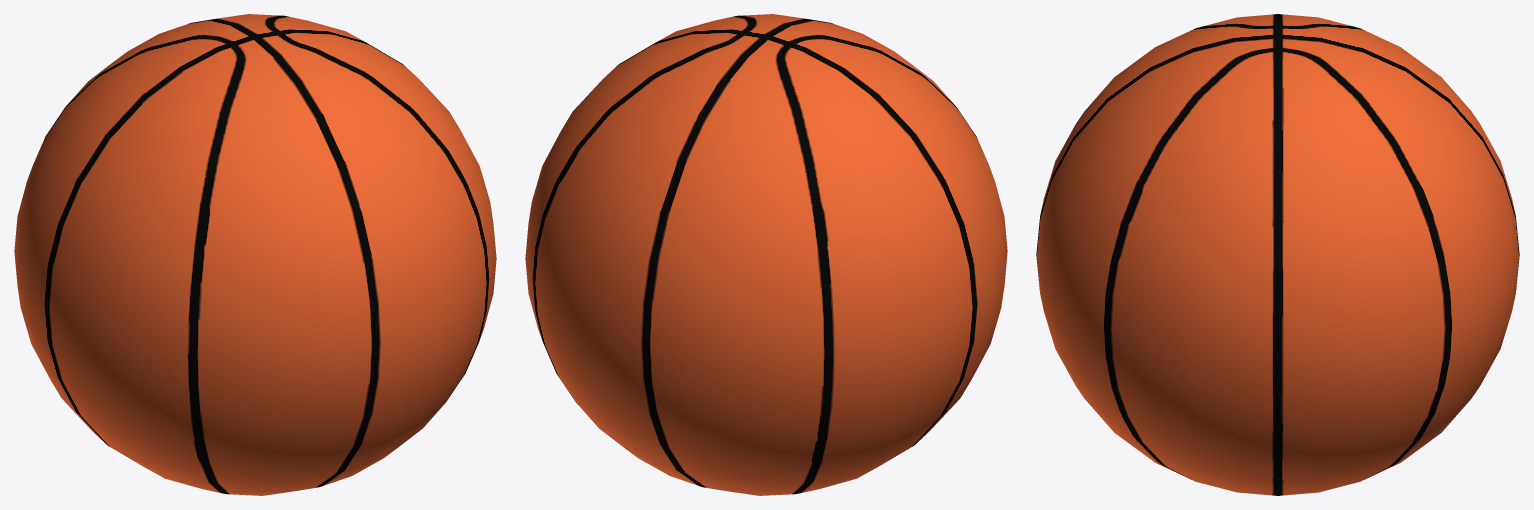
File: basketball.obj
3 views of the same model, side by side, from view 1: azimuth 30°, elevation 25°; view 2: azimuth 150°, elevation 25°; view 3: azimuth 270°, elevation 25° (orthographic).
Visible parts, largest first — view 1: basketball_low_poly; view 2: basketball_low_poly; view 3: basketball_low_poly.
Boxes of the visible parts, bbox=[...] form: basketball_low_poly: bbox=[14, 14, 496, 495]; basketball_low_poly: bbox=[525, 14, 1007, 495]; basketball_low_poly: bbox=[1036, 14, 1519, 495].
Bounding box in the file's own units: 2 × 2 × 2.
